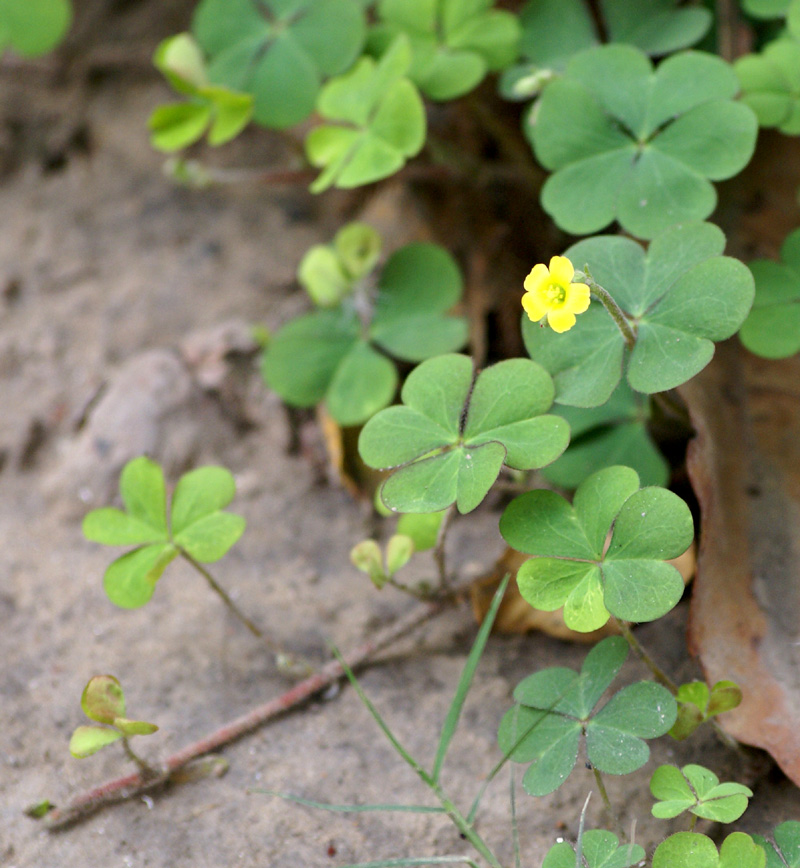oxalis: (214, 255, 800, 863), (511, 39, 788, 396), (196, 13, 530, 191), (35, 411, 284, 631)
